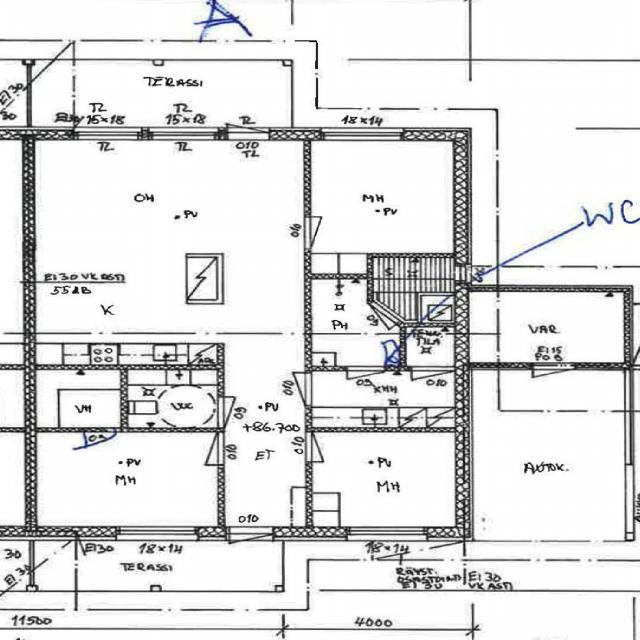door: (343, 301, 400, 344), (230, 527, 274, 574), (228, 96, 270, 140), (531, 363, 576, 402), (305, 216, 357, 249), (261, 373, 312, 405), (176, 434, 224, 465), (412, 366, 452, 401), (218, 397, 264, 426), (305, 434, 351, 462), (339, 367, 374, 398), (83, 427, 116, 457)
